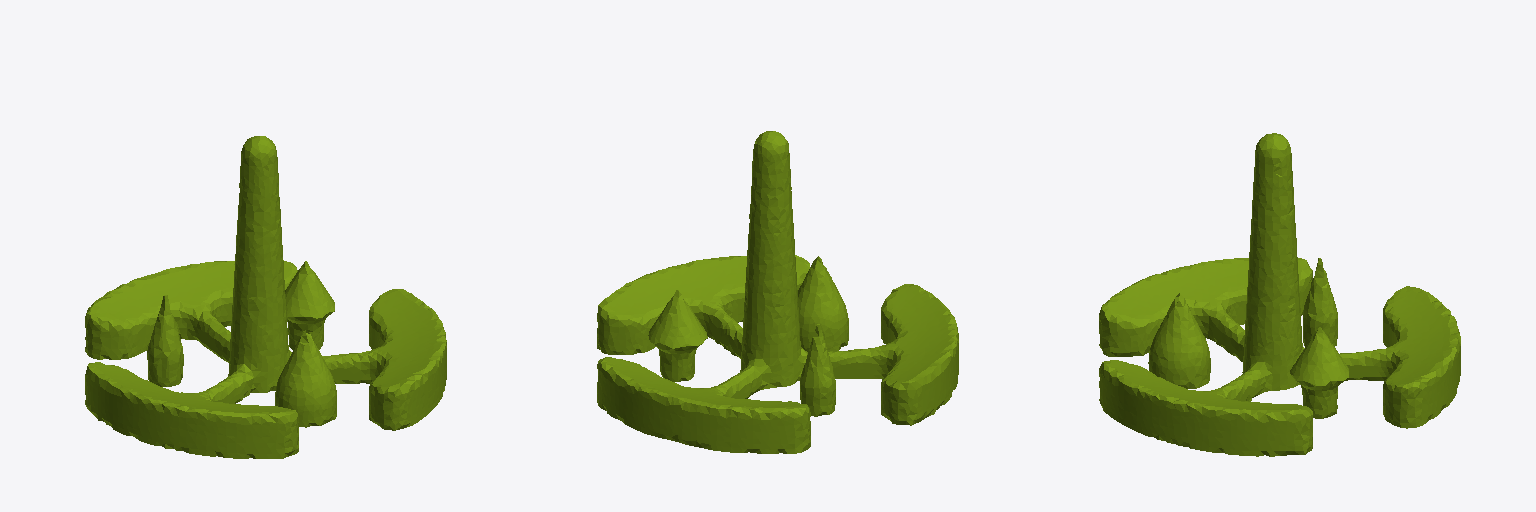
The model's file is model_decimated.obj.
3 views of the same model, side by side, from view 1: azimuth 30°, elevation 25°; view 2: azimuth 150°, elevation 25°; view 3: azimuth 270°, elevation 25° (orthographic).
Bounding box in the file's own units: 59.99 × 42.97 × 57.86.